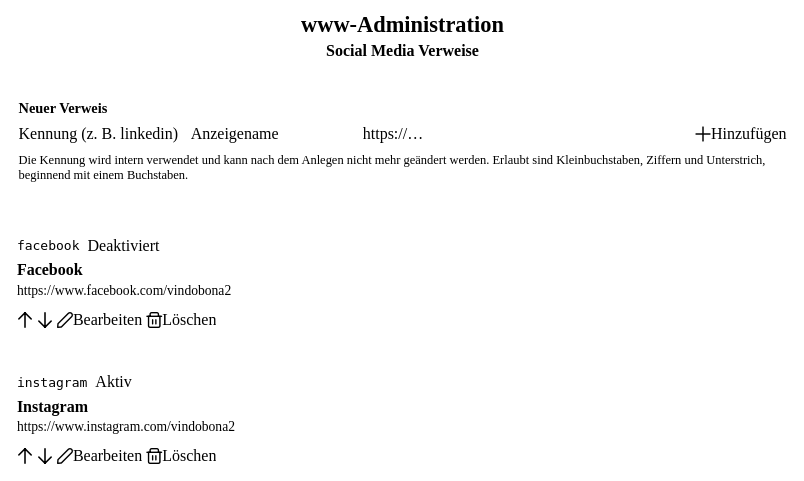
Test: SocialLinksAdminView › required fields, refreshed list, failures, limits and row names › shows the list as the API returns it after moving a link
Click the button named "Nach unten verschieben: Facebook" at (45, 320), box x1=37 y1=311 x2=53 y2=329
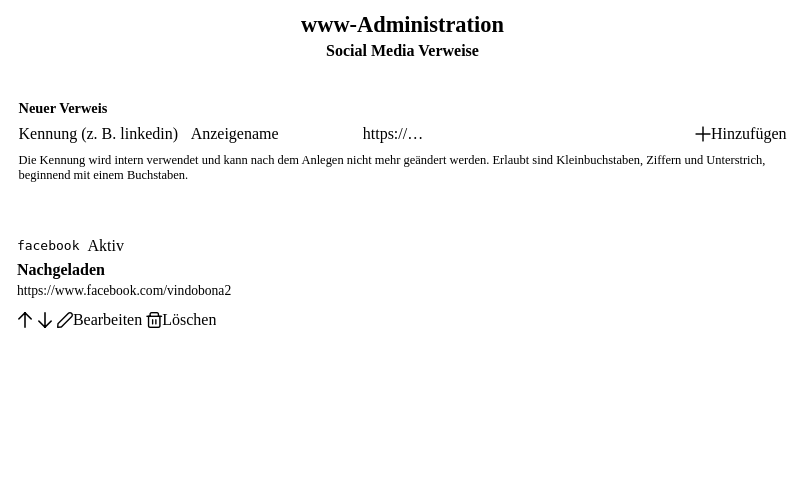
expect the text "Nachgeladen" is shown: met, box x1=17 y1=261 x2=105 y2=278
expect the text "instagram" is gone: met
